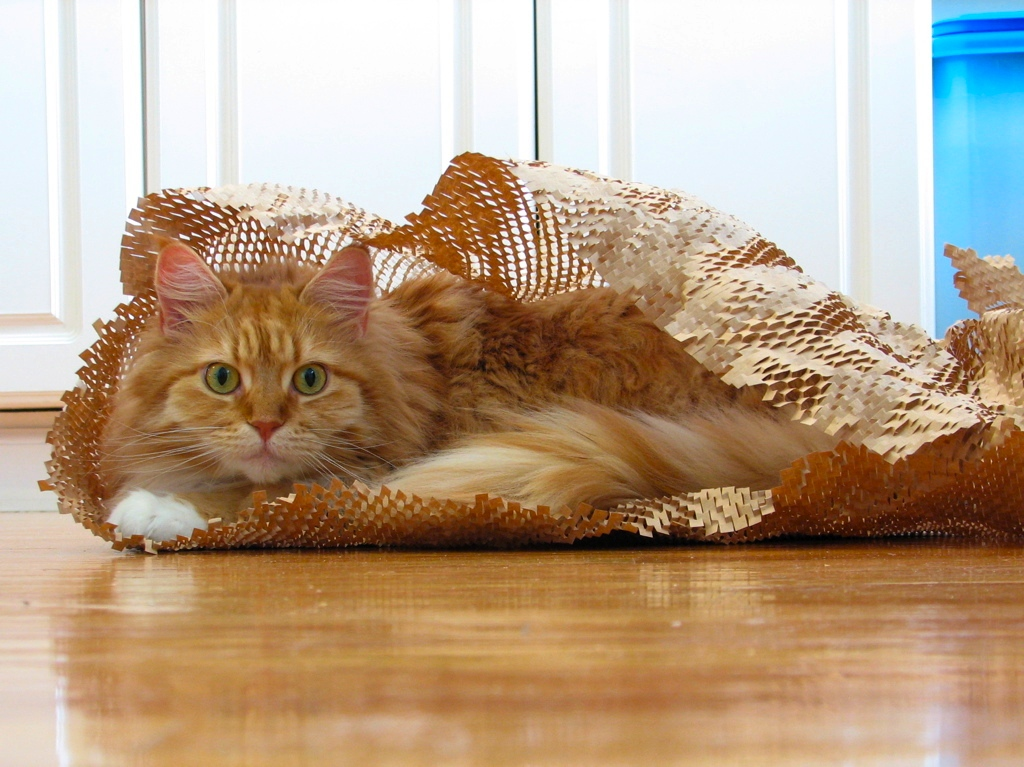cat: (94, 231, 869, 555)
